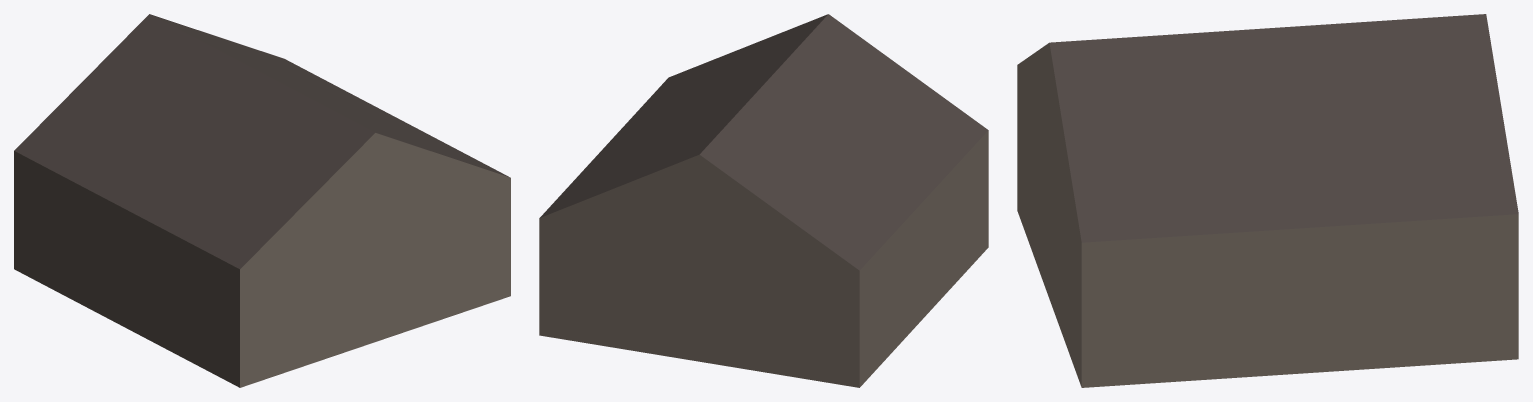
3 views of the same model, side by side, from view 1: azimuth 30°, elevation 25°; view 2: azimuth 150°, elevation 25°; view 3: azimuth 270°, elevation 25° (orthographic). The views are drawn at different scales.
Parts seen in each view (by area): view 1: HP-w858807474; view 2: HP-w858807474; view 3: HP-w858807474.
Boxes of the visible parts, <box> form: HP-w858807474: <box>14,14,510,387</box>; HP-w858807474: <box>539,14,988,387</box>; HP-w858807474: <box>1017,14,1518,387</box>.
Bounding box in the file's own units: 9.14 × 5.3 × 9.39.
